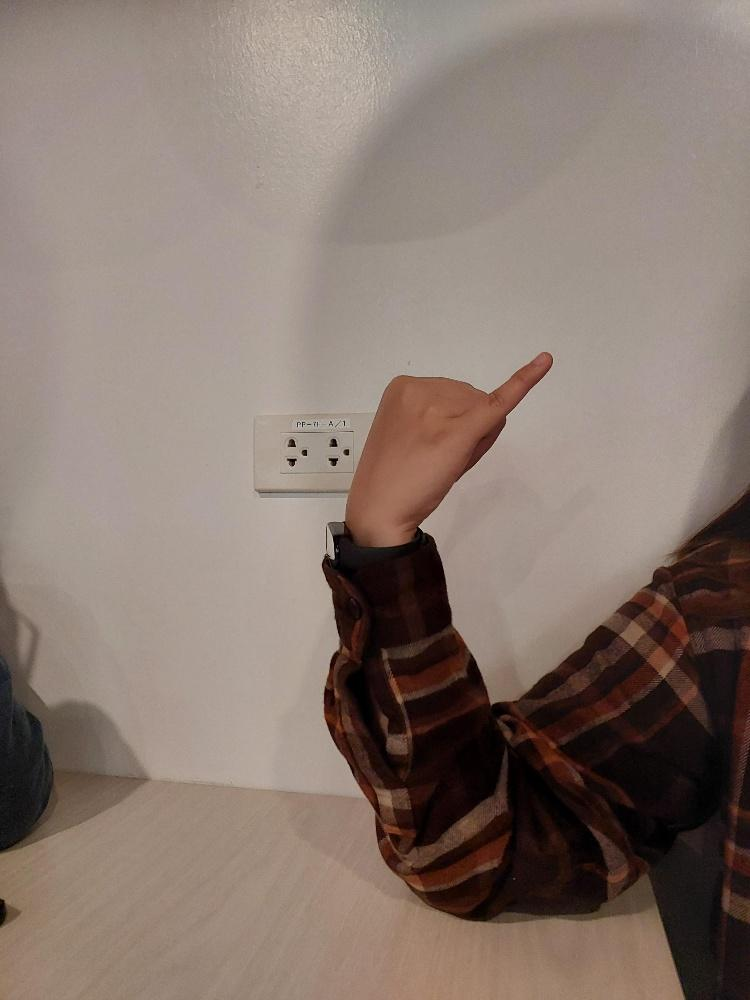j: (339, 346, 556, 539)
